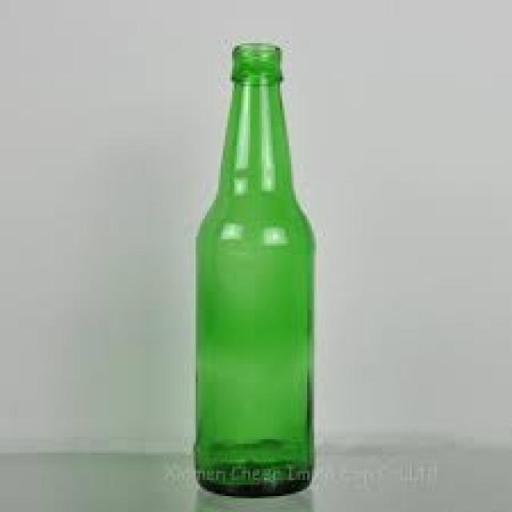glass: (161, 40, 325, 501)
